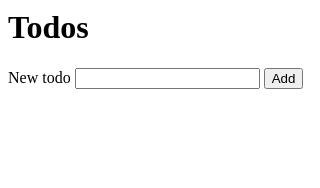
Test case: App › deletes only the matching todo
Type "Buy milk" into the field labelled "New todo".
click(167, 78); type("Buy milk")  # box [75,68,260,89]
Then press Enter
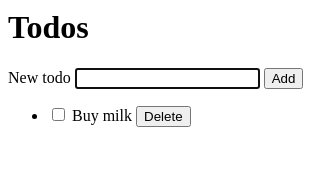
Type "Walk dog" into the field labelled "New todo".
click(167, 78); type("Walk dog")  # box [75,68,260,89]
Then press Enter
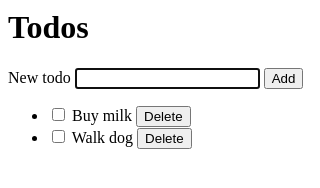
Type "Write tests" into the field labelled "New todo".
click(167, 78); type("Write tests")  # box [75,68,260,89]
Then press Enter
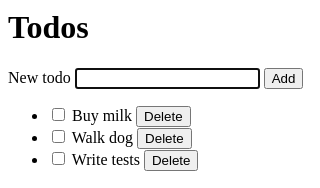
Click the button with aria-label "Delete Walk dog".
click(164, 138)  # box [137,128,192,149]
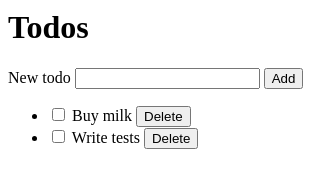
Check: the list "Delete Walk dog" is gone
